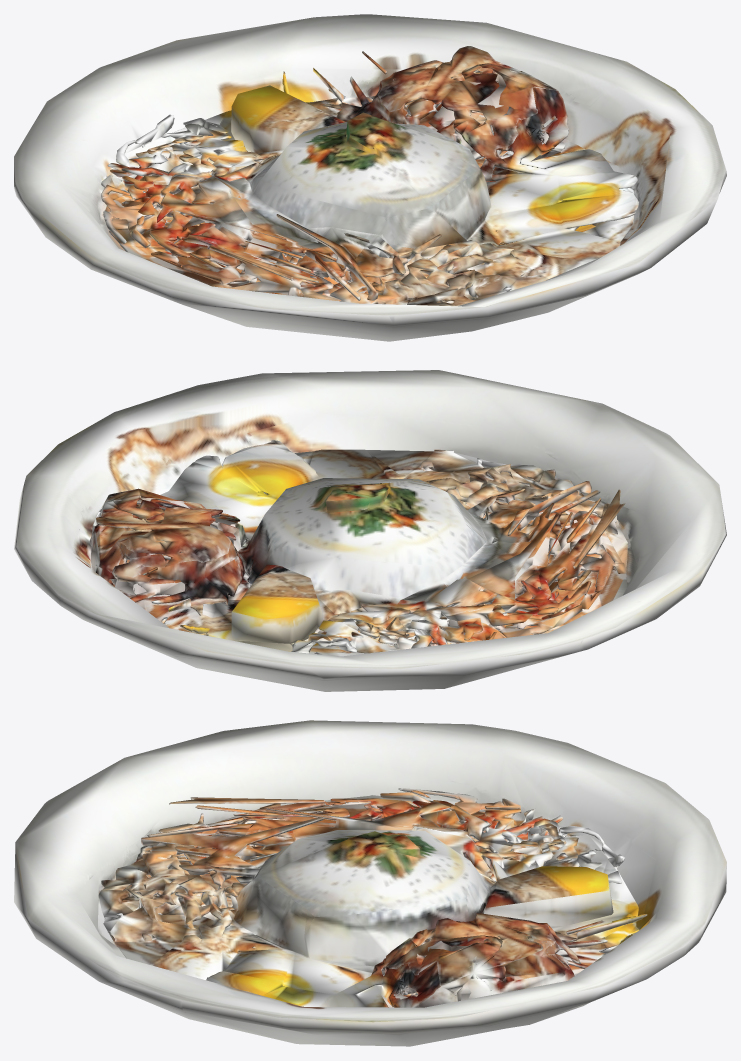
Rendered from com_tam.glb.
3 renders of one model, top to bottom at view 1: azimuth 30°, elevation 25°; view 2: azimuth 150°, elevation 25°; view 3: azimuth 270°, elevation 25°, orthographic.
Size of the model in its own units: 1.99 by 0.3521 by 1.98.
Materials: 1 (1 with a texture image).
